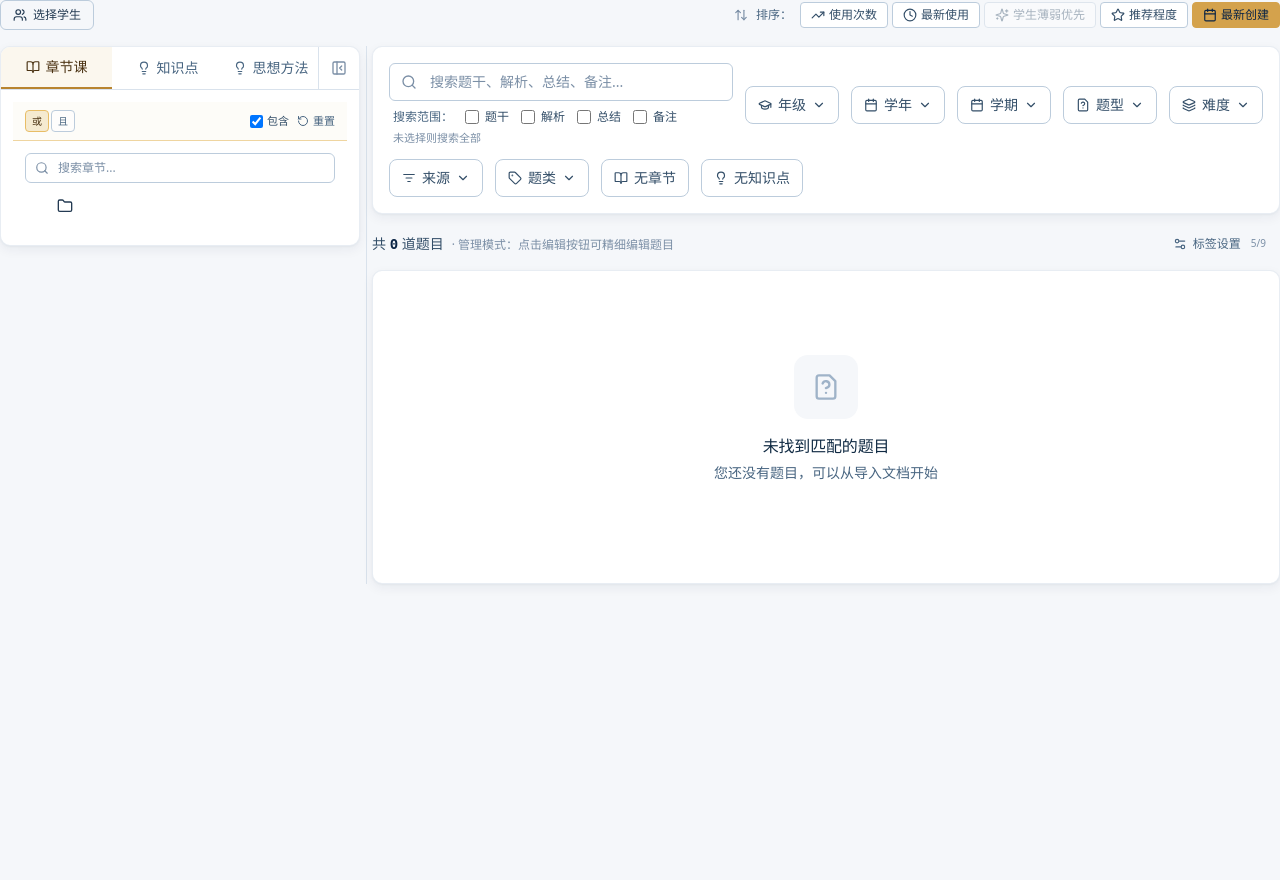
Test: QuestionBankPage personal resource scope › filters trained knowledge points by low mastery and untrained knowledge points by easy difficulty
This screenshot has width=1280, height=880.
Click the button "选择学生": (47, 15) [0,0,94,30]
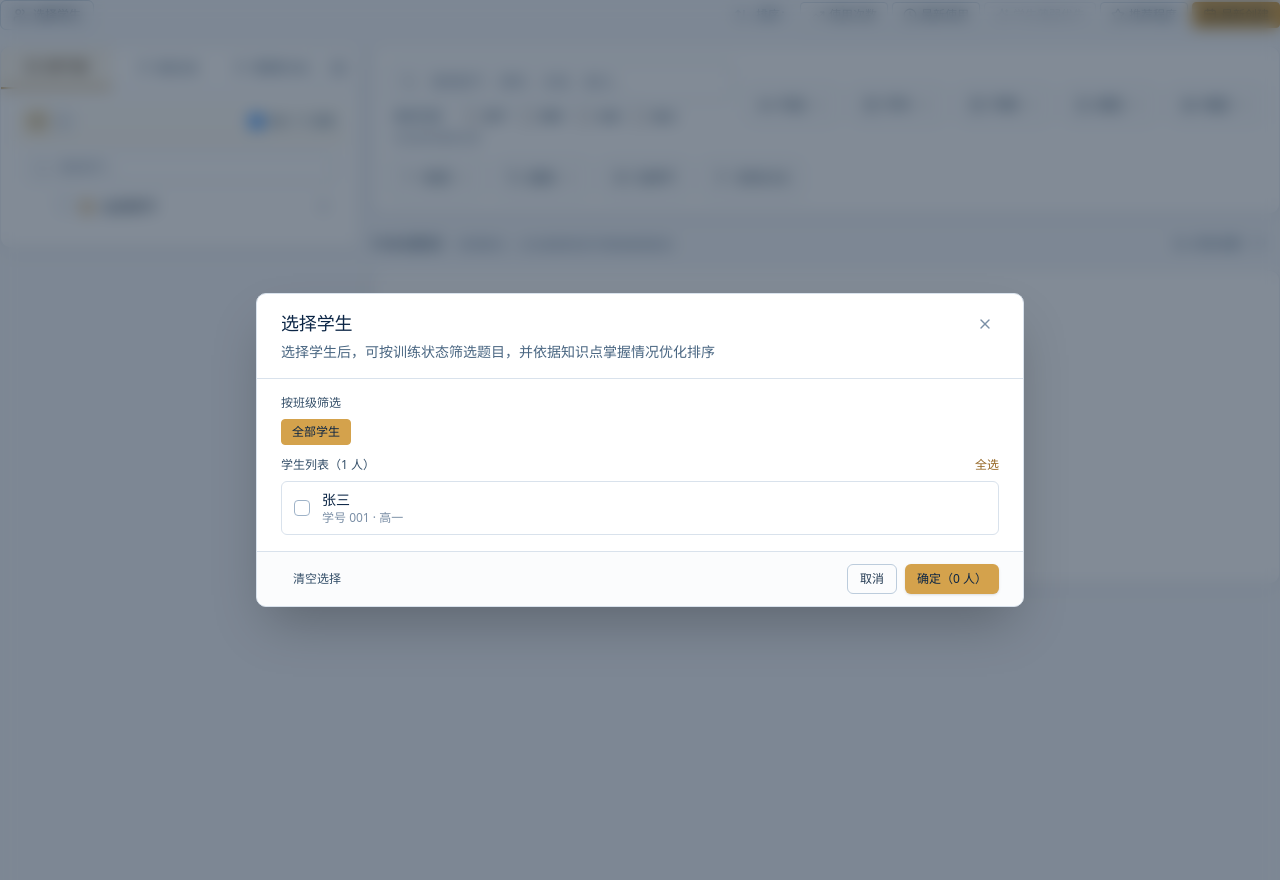
Click the text "张三": (336, 500) [322,490,350,509]
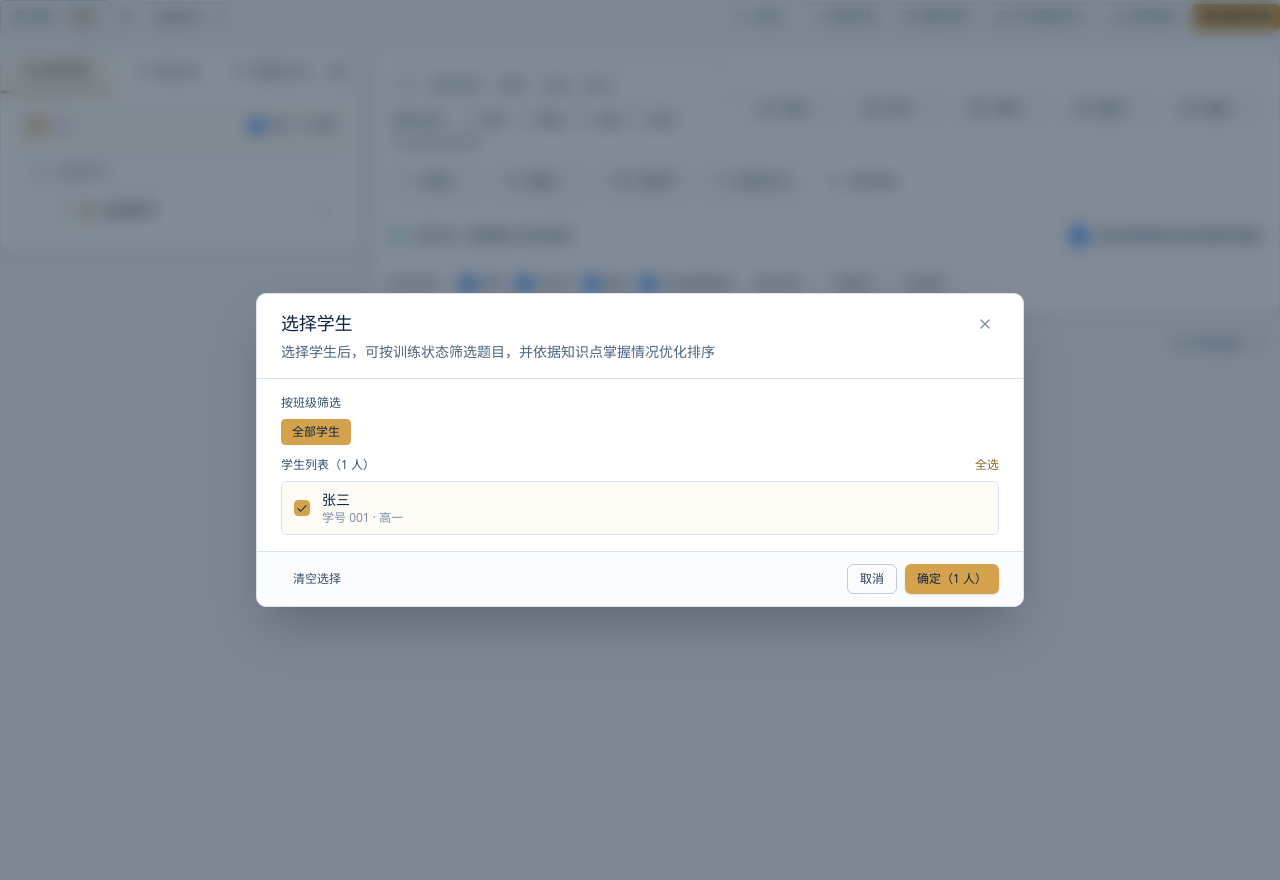
Click the button "确定（1 人）": (952, 579) [905,564,999,594]
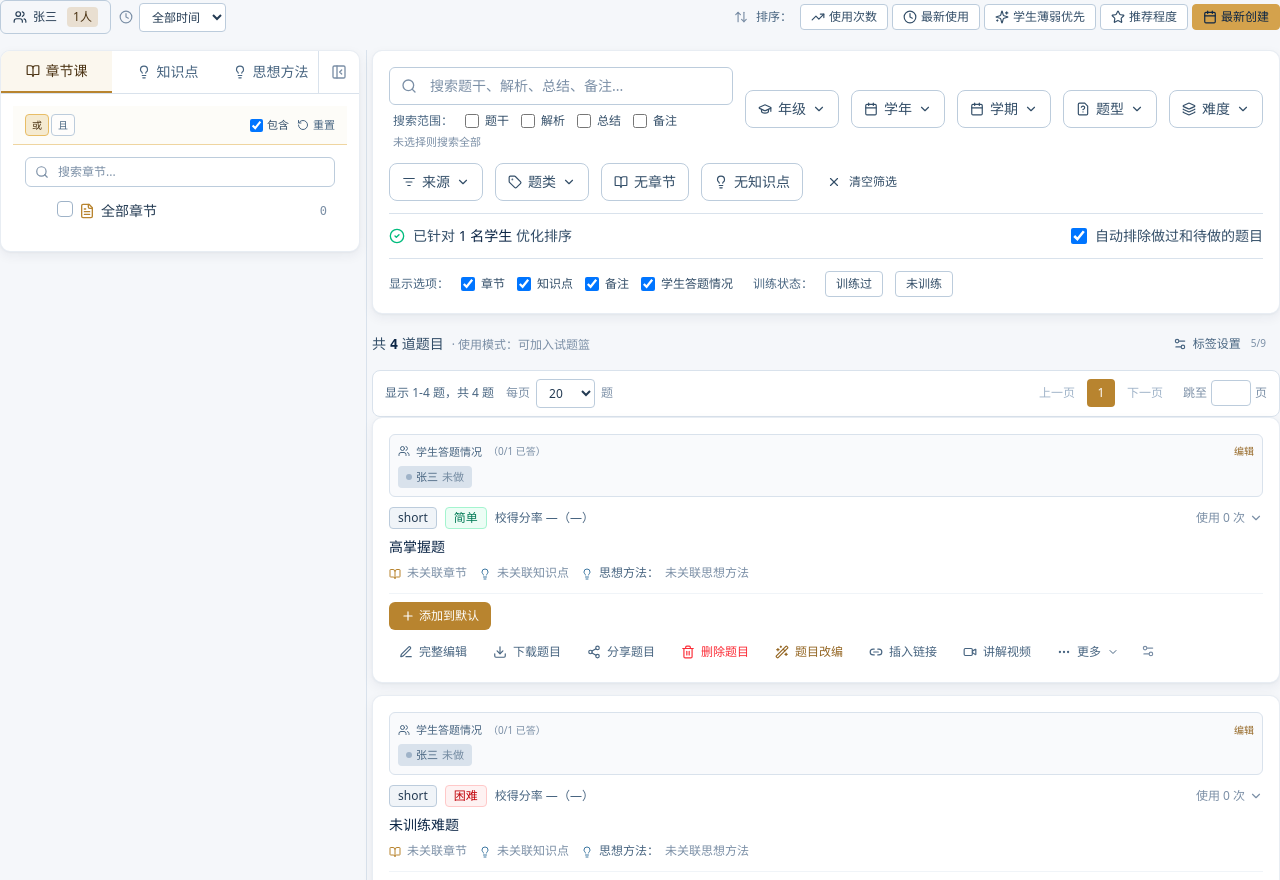
expect the button "训练过" is shown: met
Click the button "训练过": (854, 284) [825,271,883,297]
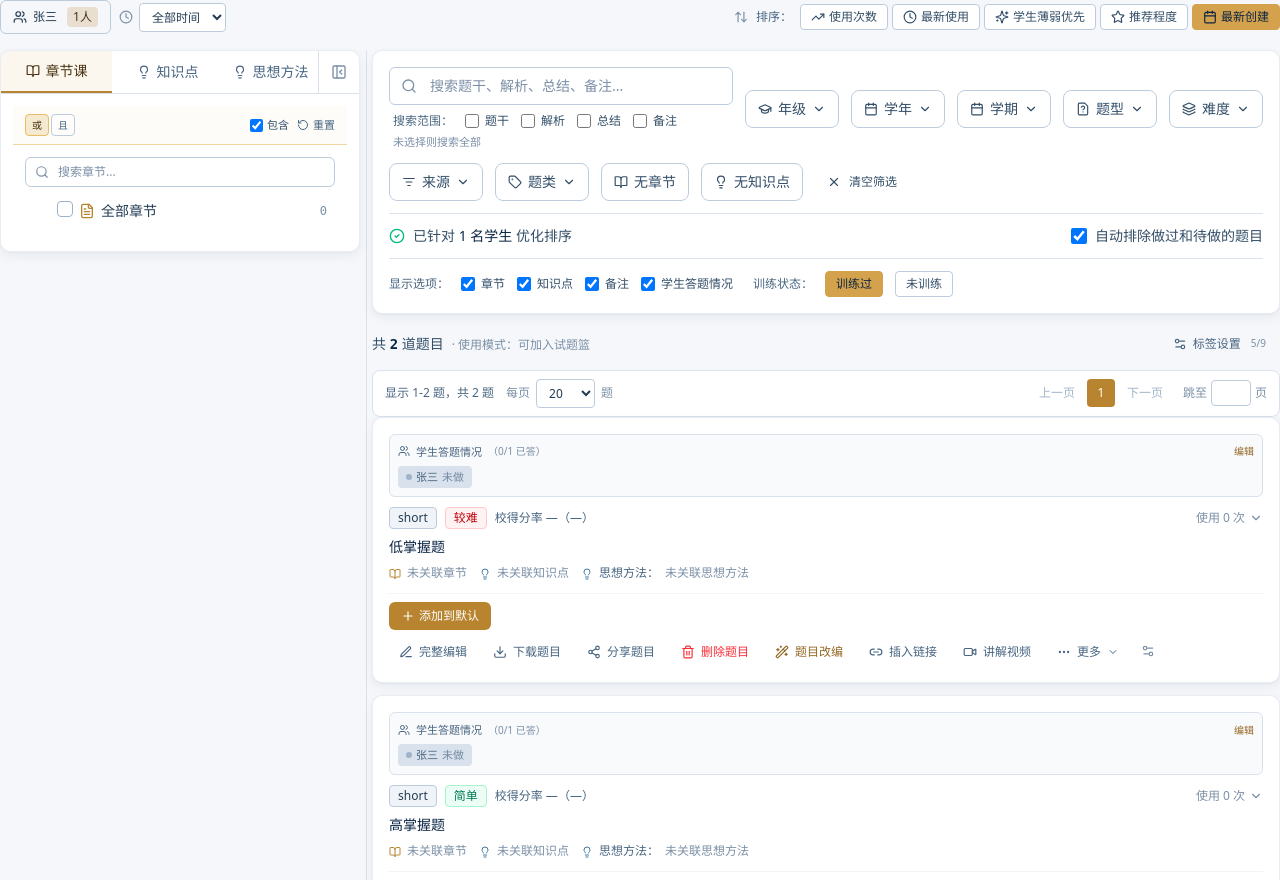
expect the text "低掌握题" is shown: met, box [389,537,445,556]
expect the text "高掌握题" is shown: met, box [389,815,445,834]
Click the button "未训练": (924, 284) [895,271,953,297]
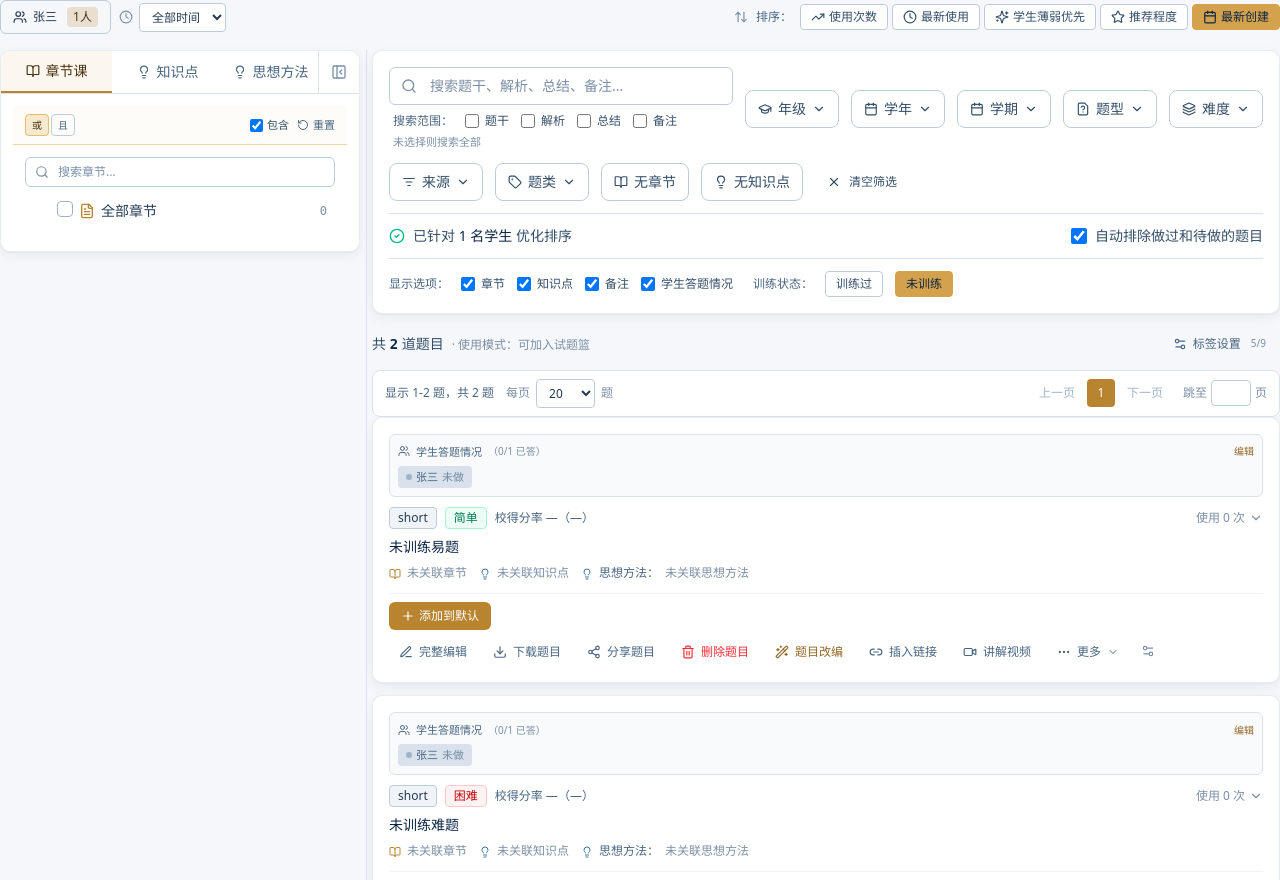
expect the text "未训练易题" is shown: met, box [389,537,459,556]
expect the text "未训练难题" is shown: met, box [389,815,459,834]
expect the text "低掌握题" is gone: met
